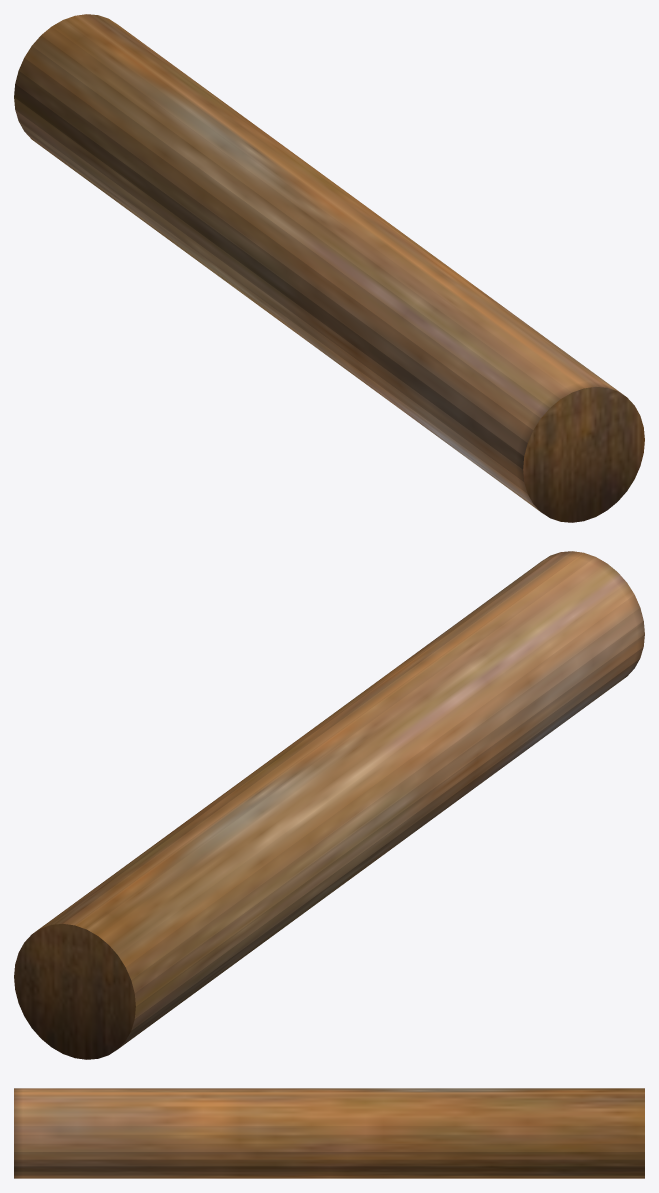
Rendered from Pipe1.fbx.
3 views of the same model, one above another, from view 1: azimuth 30°, elevation 25°; view 2: azimuth 150°, elevation 25°; view 3: azimuth 270°, elevation 25° (orthographic). The views are drawn at different scales.
Visible parts, largest first — view 1: Cylinder; view 2: Cylinder; view 3: Cylinder.
Boxes of the visible parts, box(x1,y1,x2,y2) form: Cylinder: box(14, 14, 644, 522); Cylinder: box(14, 551, 644, 1059); Cylinder: box(14, 1088, 644, 1178).
Size of the model in its own units: 27.65 by 28.78 by 200.
Materials: 1 (1 with a texture image).
